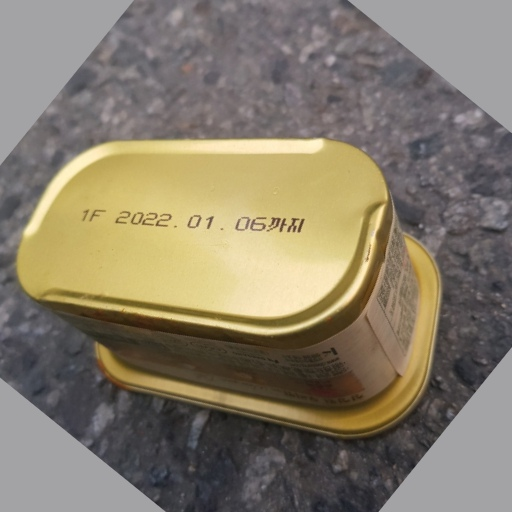Metal_2: (16, 133, 441, 437)
